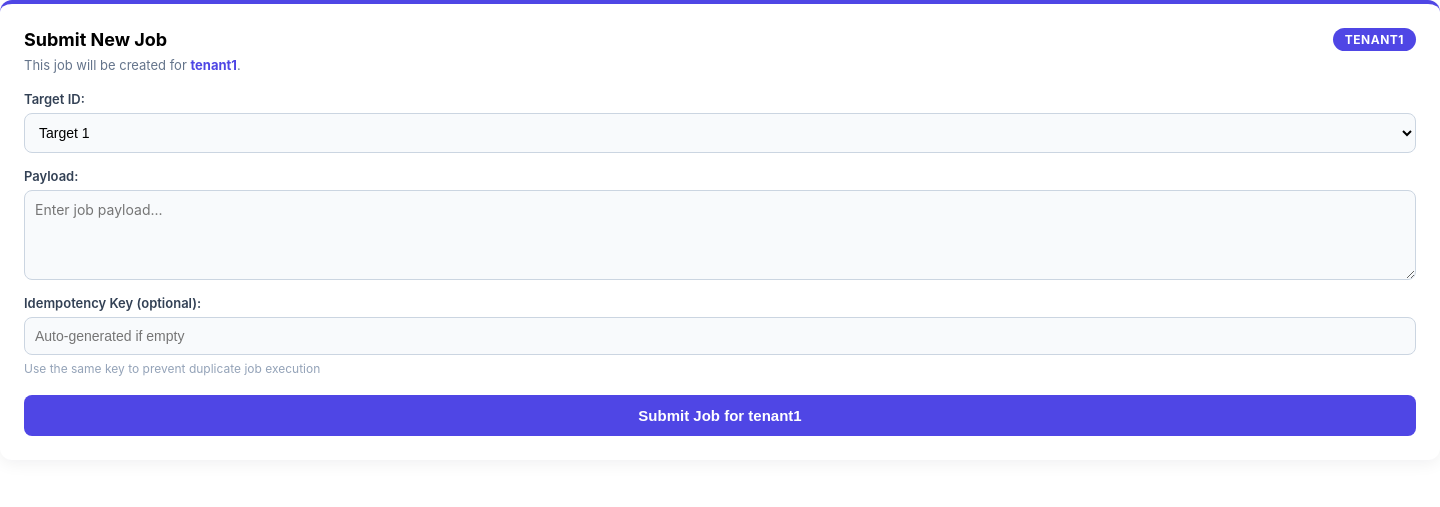
JobForm › shows error message on submission failure
Click the button "Submit Job for tenant1": (720, 416) top-left (24, 395), bottom-right (1416, 436)
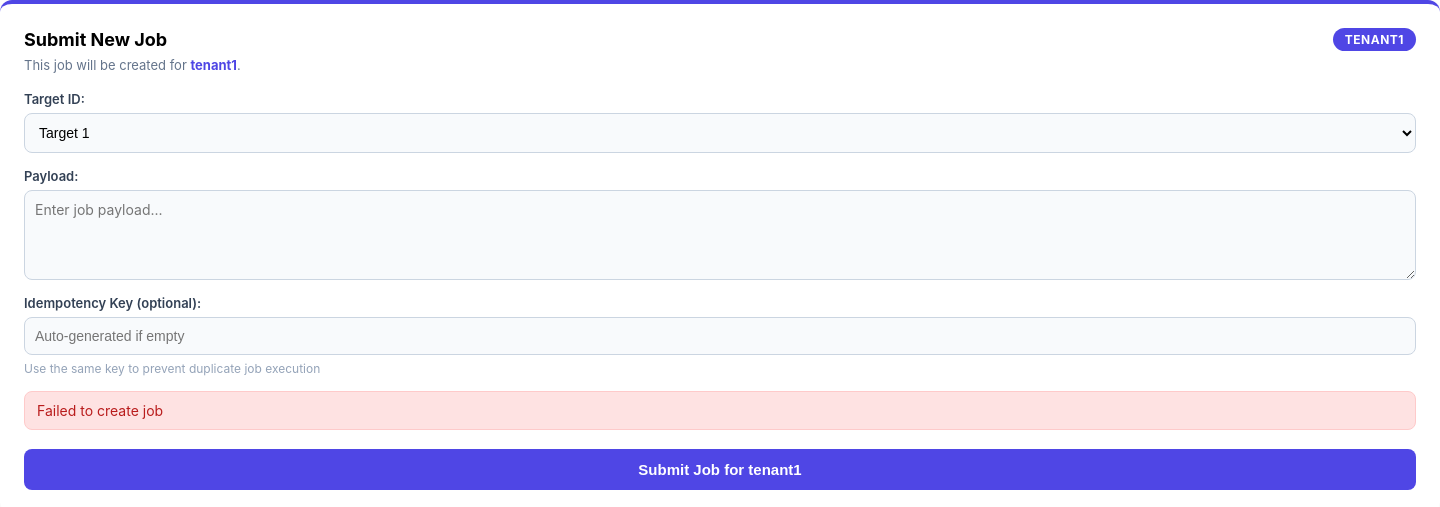
expect the text "Failed to create job" is shown: met, box top-left (24, 391), bottom-right (1416, 430)
